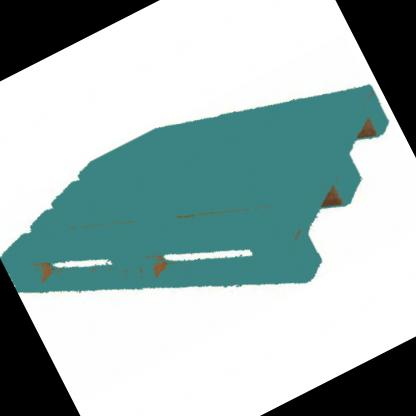BoxFace: (0, 81, 391, 299)
